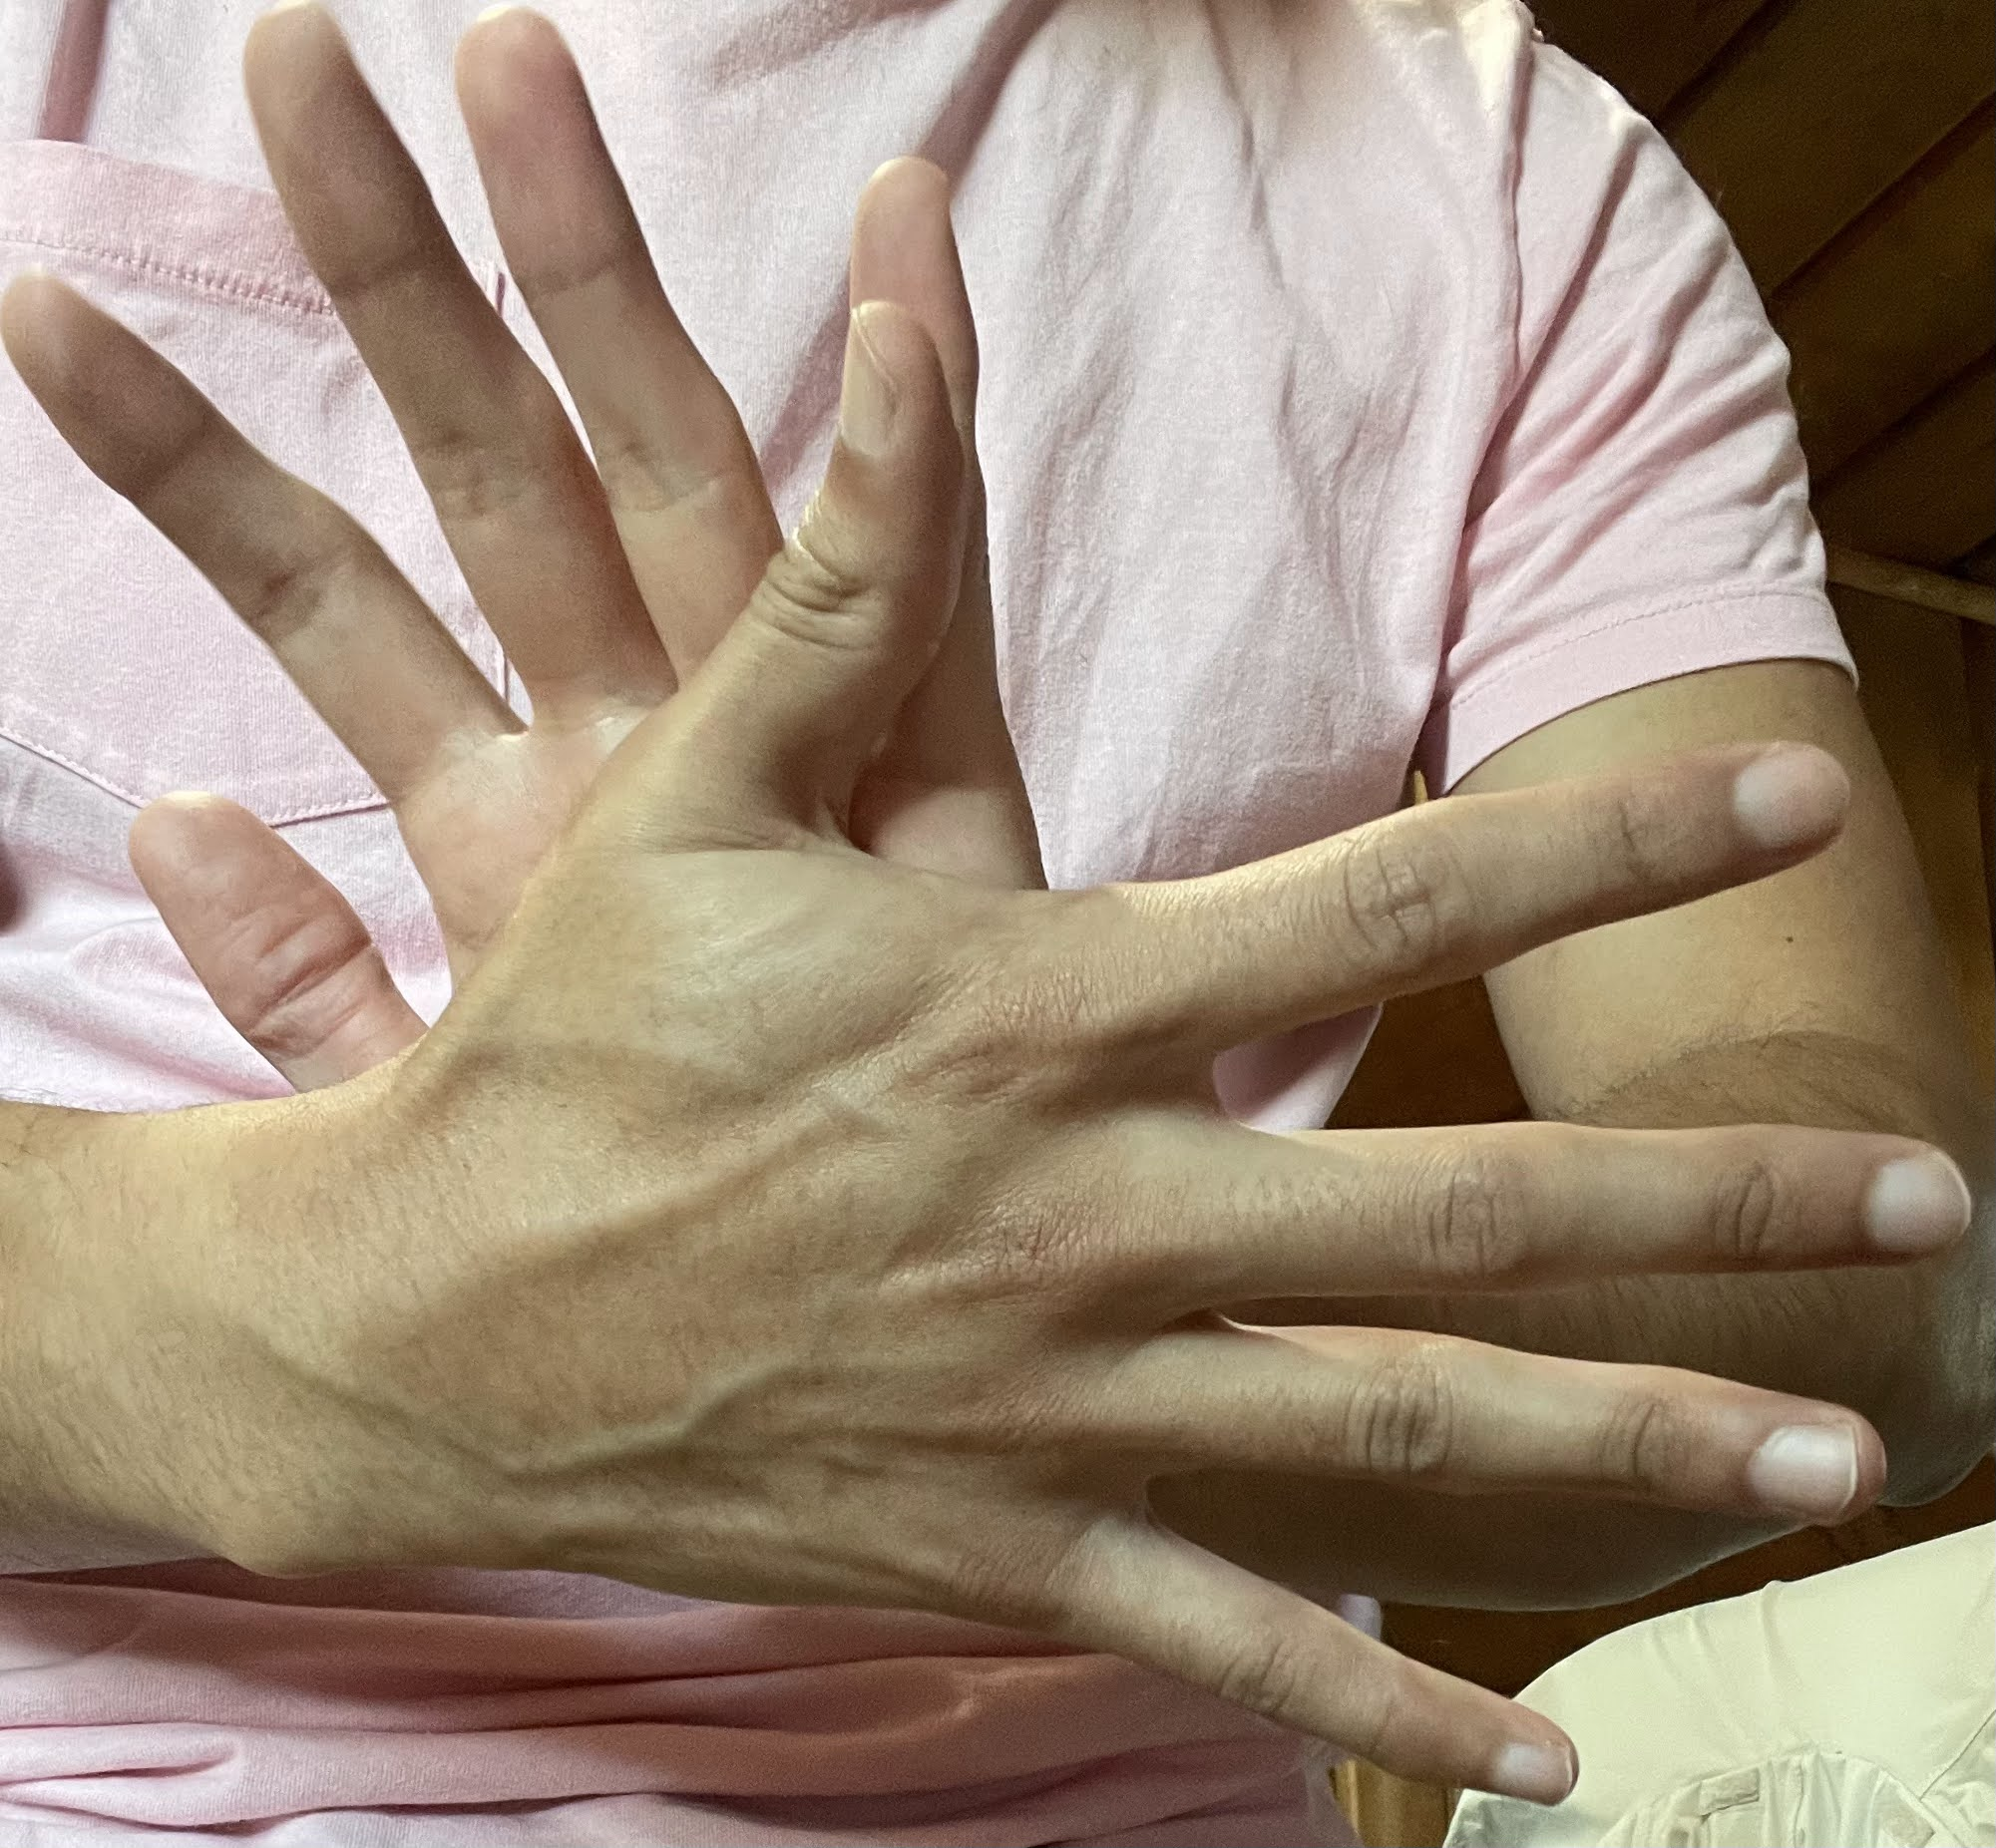cheese: (2, 2, 1977, 1813)
